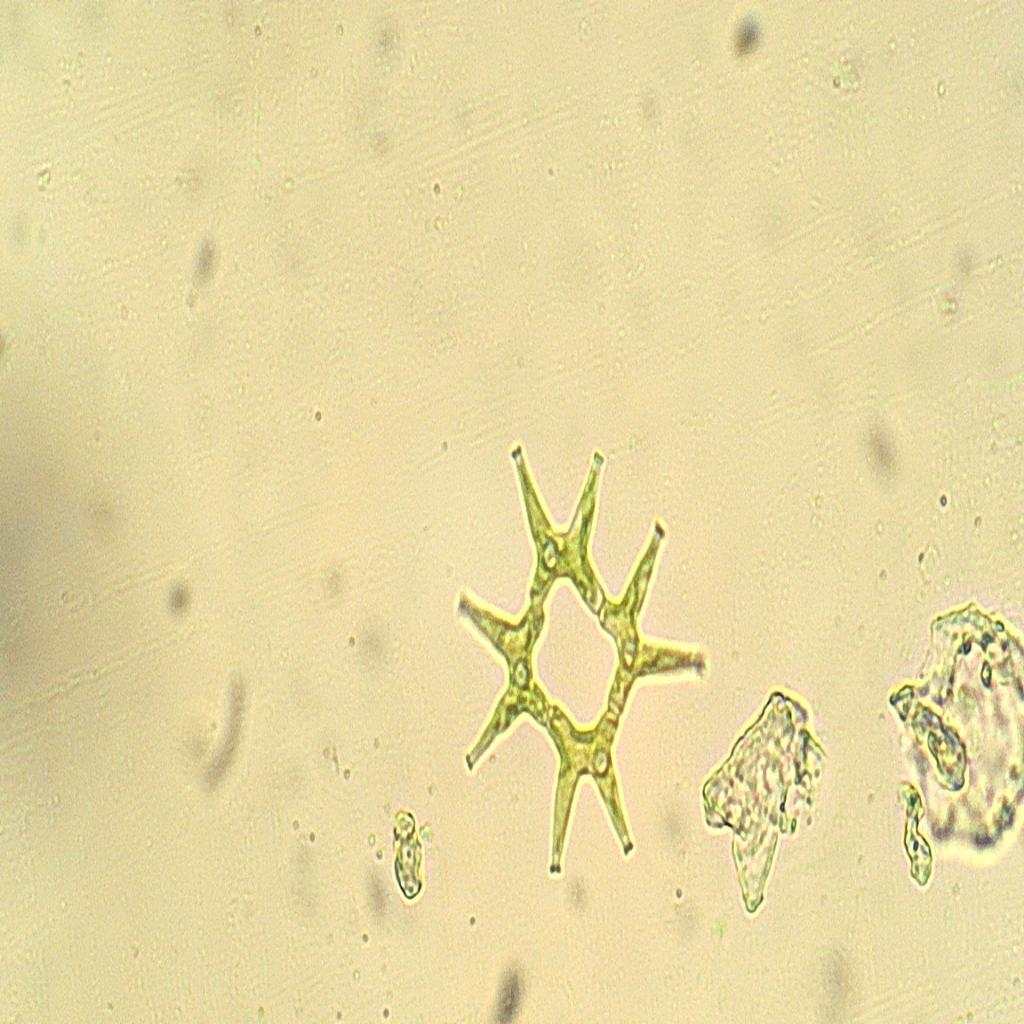Pediastrum_75O: (443, 418, 716, 891)
